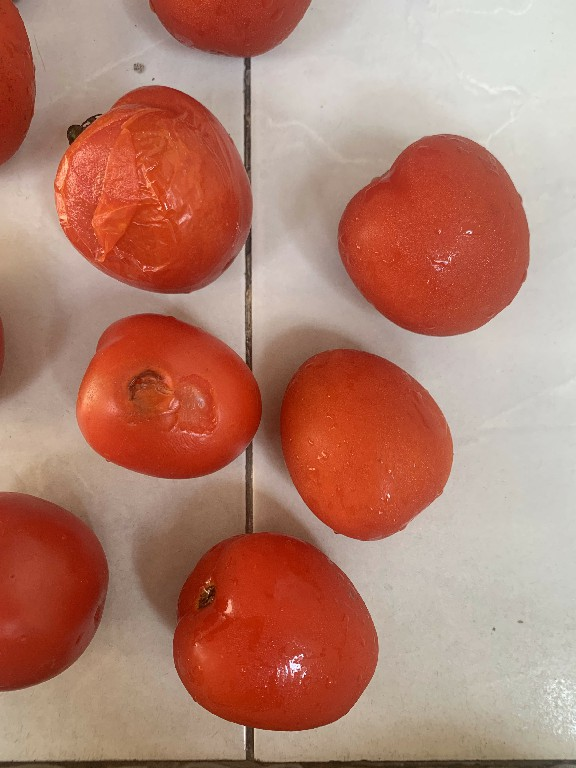NG: (45, 67, 274, 301), (65, 300, 277, 487)
OK: (317, 113, 547, 340), (169, 519, 384, 731), (267, 337, 488, 543)
